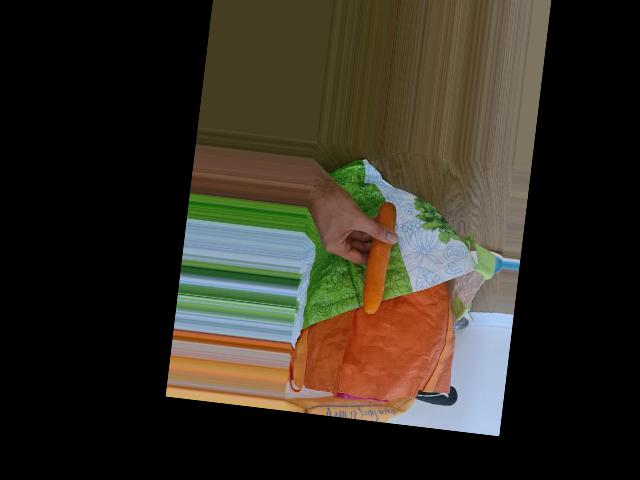carrot: (364, 201, 396, 312)
